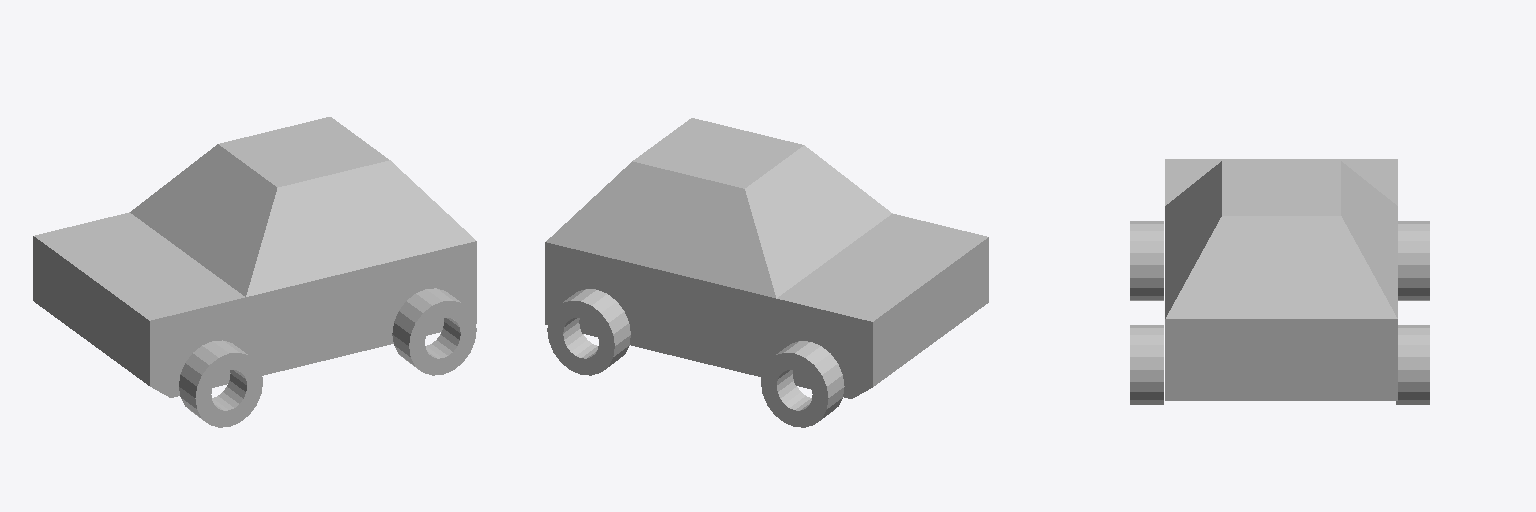
Rendered from Car.obj.
The picture shows the model from 3 angles: view 1: azimuth 30°, elevation 25°; view 2: azimuth 150°, elevation 25°; view 3: azimuth 270°, elevation 25°; orthographic projection.
Parts seen in each view (by area): view 1: Car; view 2: Car; view 3: Car.
Boxes of the visible parts, x1,y1,x2,y2 form: Car: [33, 117, 476, 427]; Car: [545, 118, 988, 427]; Car: [1130, 159, 1429, 404].
Size of the model in its own units: 8.22 by 4.38 by 6.52.